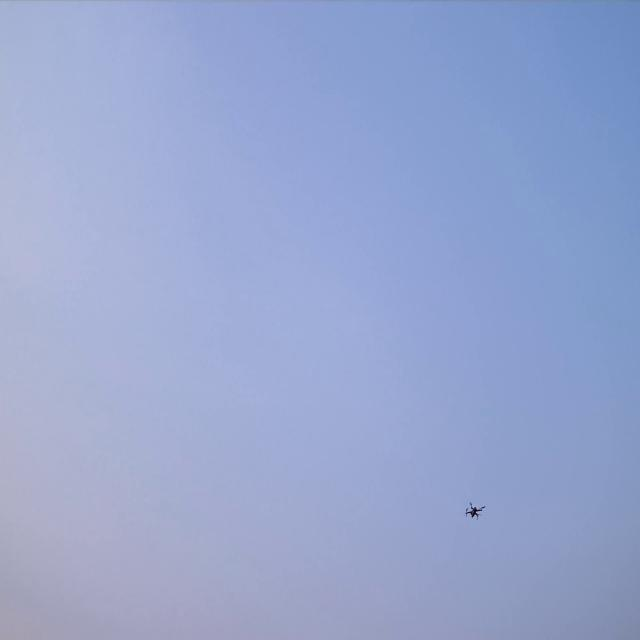UAV: (466, 504, 484, 516)
